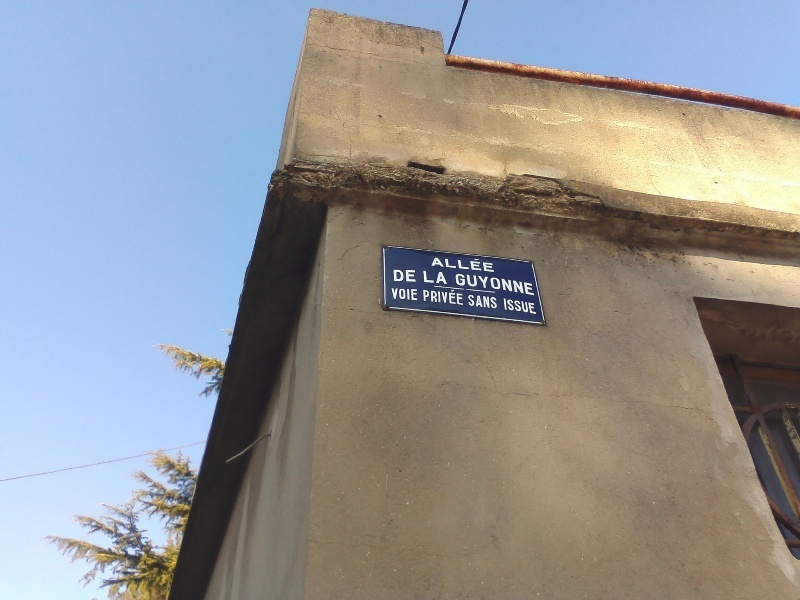text: (465, 272, 480, 297), (481, 272, 496, 297), (497, 272, 512, 297), (513, 272, 528, 297), (449, 256, 464, 274), (465, 256, 480, 274), (481, 256, 496, 274), (433, 288, 448, 306), (449, 288, 464, 306), (513, 298, 528, 315), (454, 272, 464, 297), (481, 294, 496, 310), (435, 256, 448, 274), (433, 270, 448, 285), (401, 269, 417, 282), (401, 288, 416, 301), (468, 294, 480, 310), (529, 272, 536, 297), (423, 288, 432, 306), (422, 270, 432, 285), (504, 298, 512, 315), (529, 298, 537, 315), (392, 288, 400, 301), (393, 269, 400, 282), (417, 288, 419, 301), (497, 294, 498, 310)
